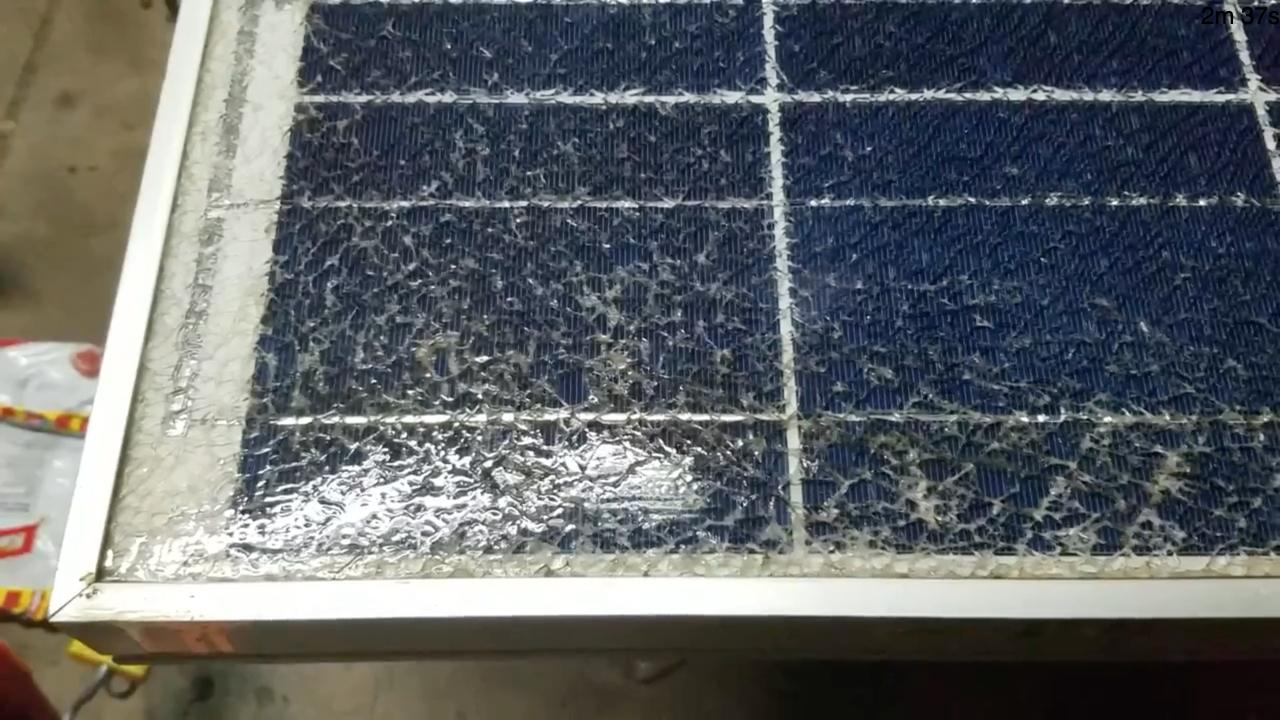Crack: (232, 2, 794, 572), (808, 6, 1274, 554)
